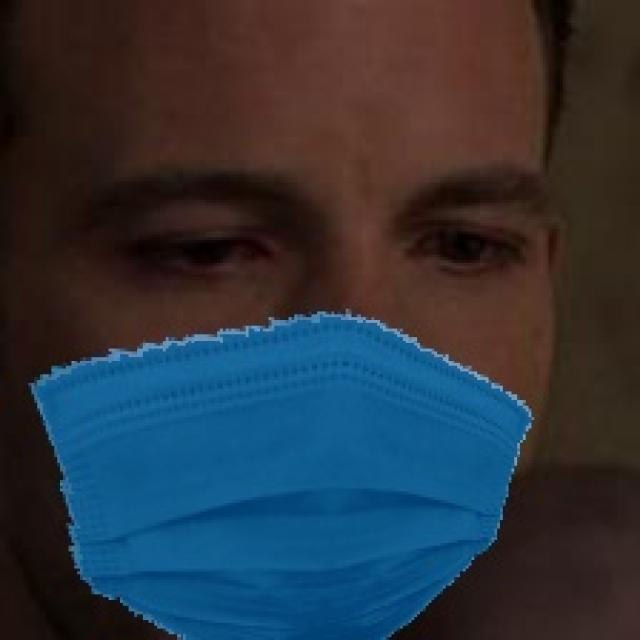mask: (22, 336, 544, 640)
